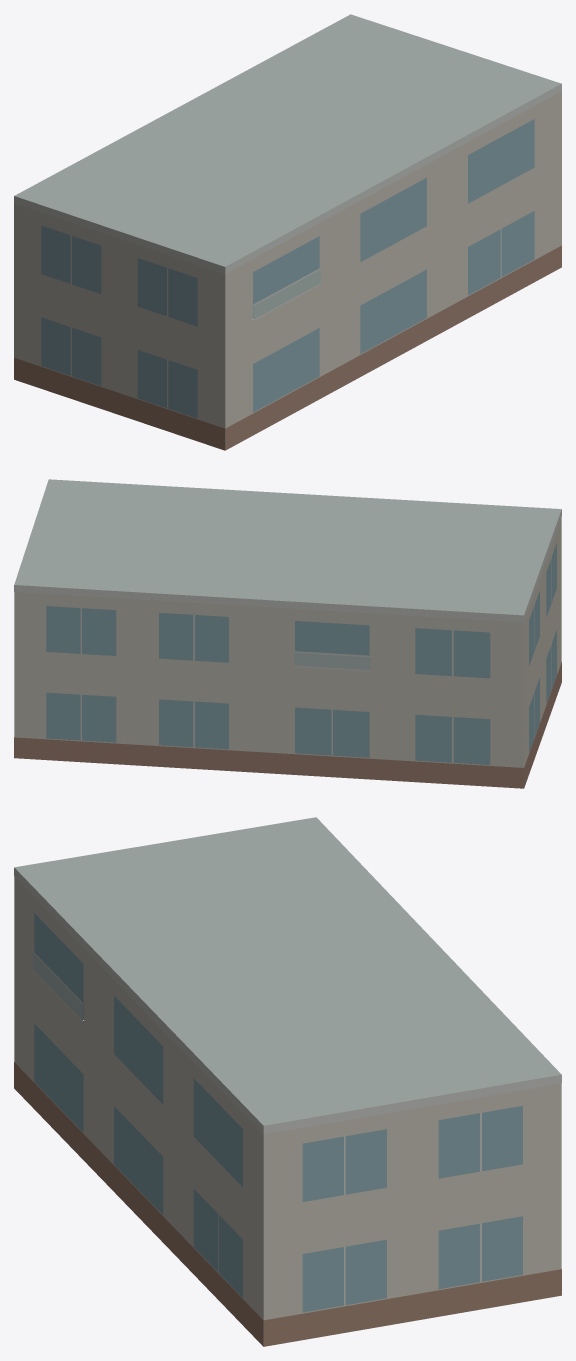
File: survey-upis-32843097.glb
The picture shows the model from 3 angles, top to bottom: view 1: azimuth 30°, elevation 25°; view 2: azimuth 150°, elevation 25°; view 3: azimuth 270°, elevation 25°; orthographic projection. The views are drawn at different scales.
Visible parts, largest first — view 1: survey-upis-32843097.tmp; view 2: survey-upis-32843097.tmp; view 3: survey-upis-32843097.tmp.
Part boxes in pixels (x1,y1,x2,y2): survey-upis-32843097.tmp: [14, 14, 561, 450]; survey-upis-32843097.tmp: [14, 479, 561, 788]; survey-upis-32843097.tmp: [14, 817, 561, 1346].
Size of the model in its own units: 18.29 by 6.1 by 13.71.
